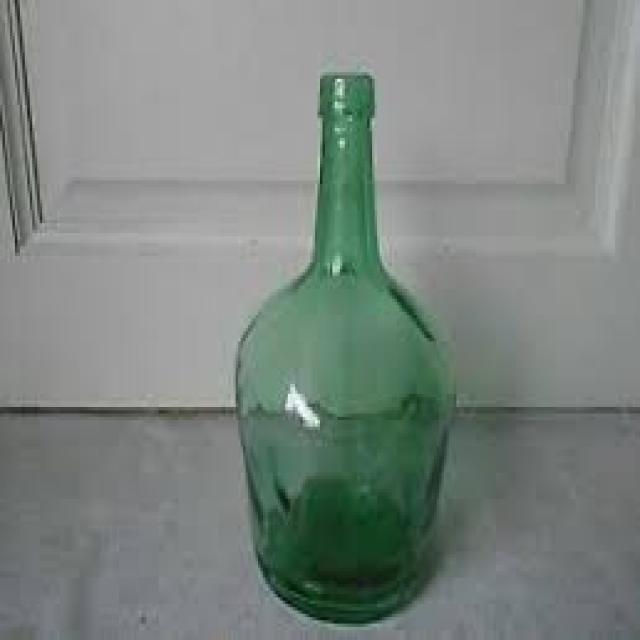glass: (233, 73, 452, 621)
